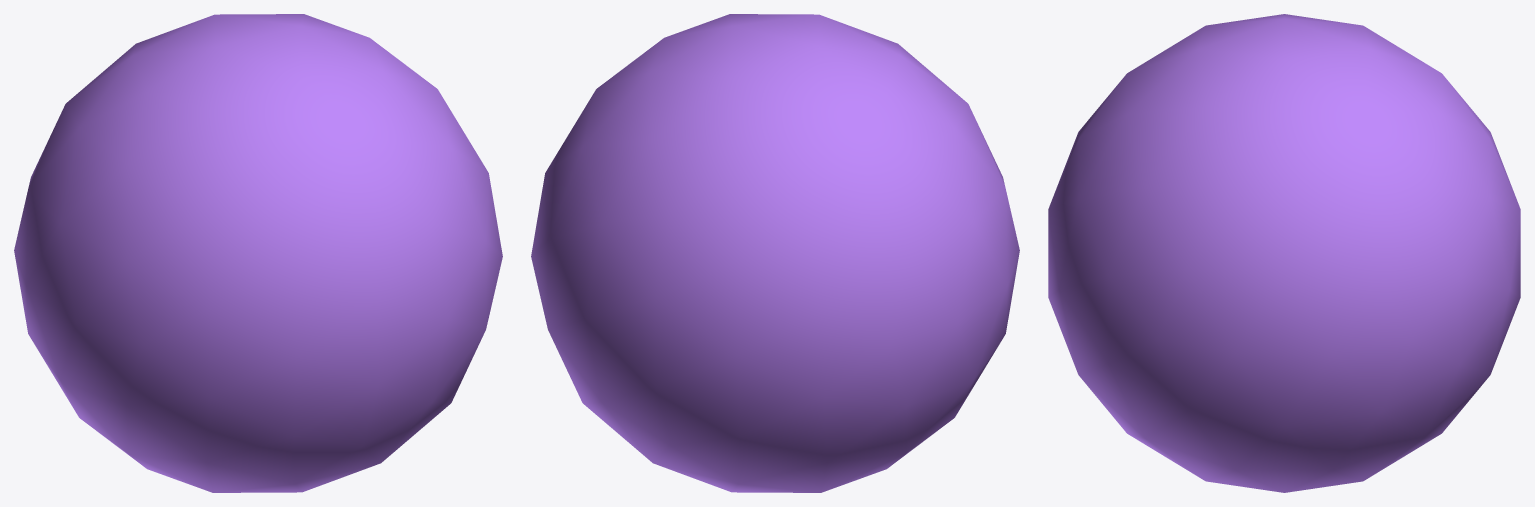
The picture shows the model from 3 angles, left to right: view 1: azimuth 30°, elevation 25°; view 2: azimuth 150°, elevation 25°; view 3: azimuth 270°, elevation 25°; orthographic projection.
Bounding box in the file's own units: 1.96 × 1.96 × 1.96.
